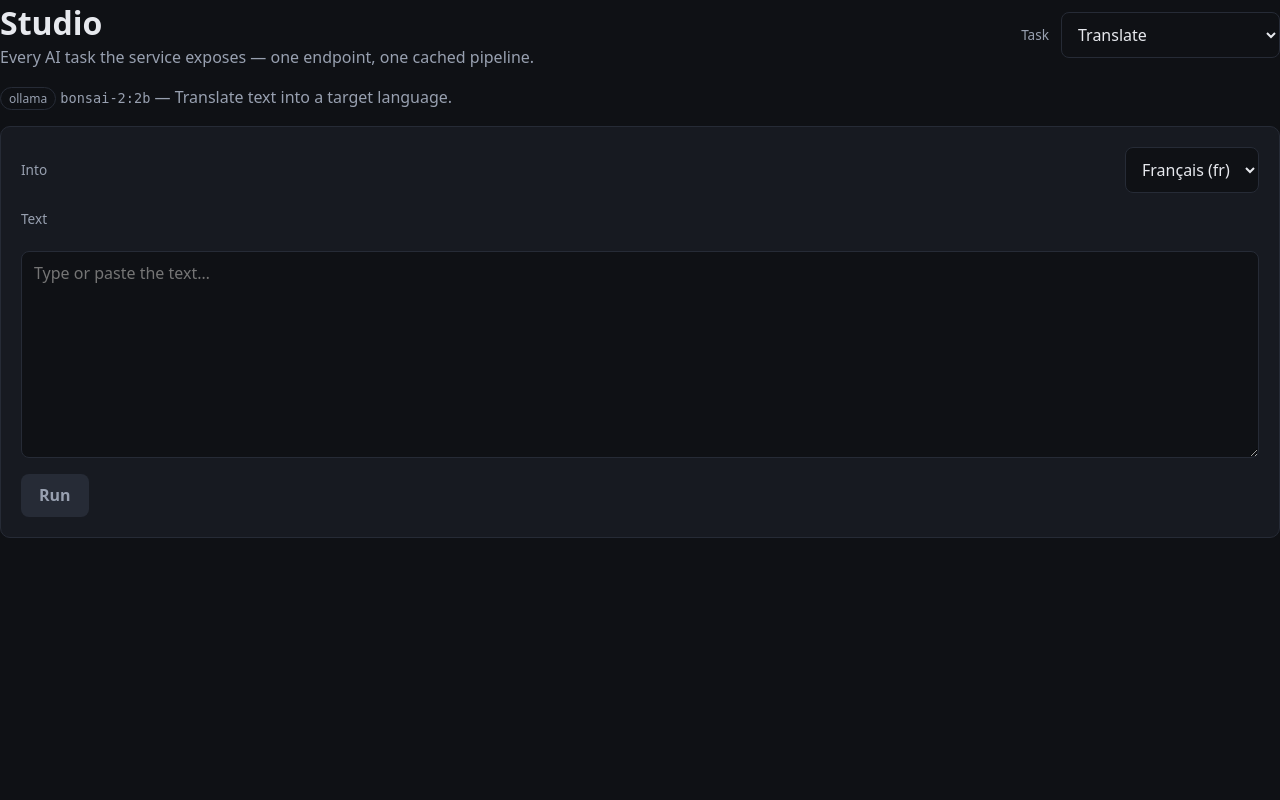
Scenario: Studio › posts the selected target language for translation
This screenshot has width=1280, height=800.
Select "Français (fr)" in the dropdown labelled "Into": [1192, 170] box [1125,147,1259,193]
In the text box labelled "Text": [640, 354] box [21,251,1259,458], type "Hello"
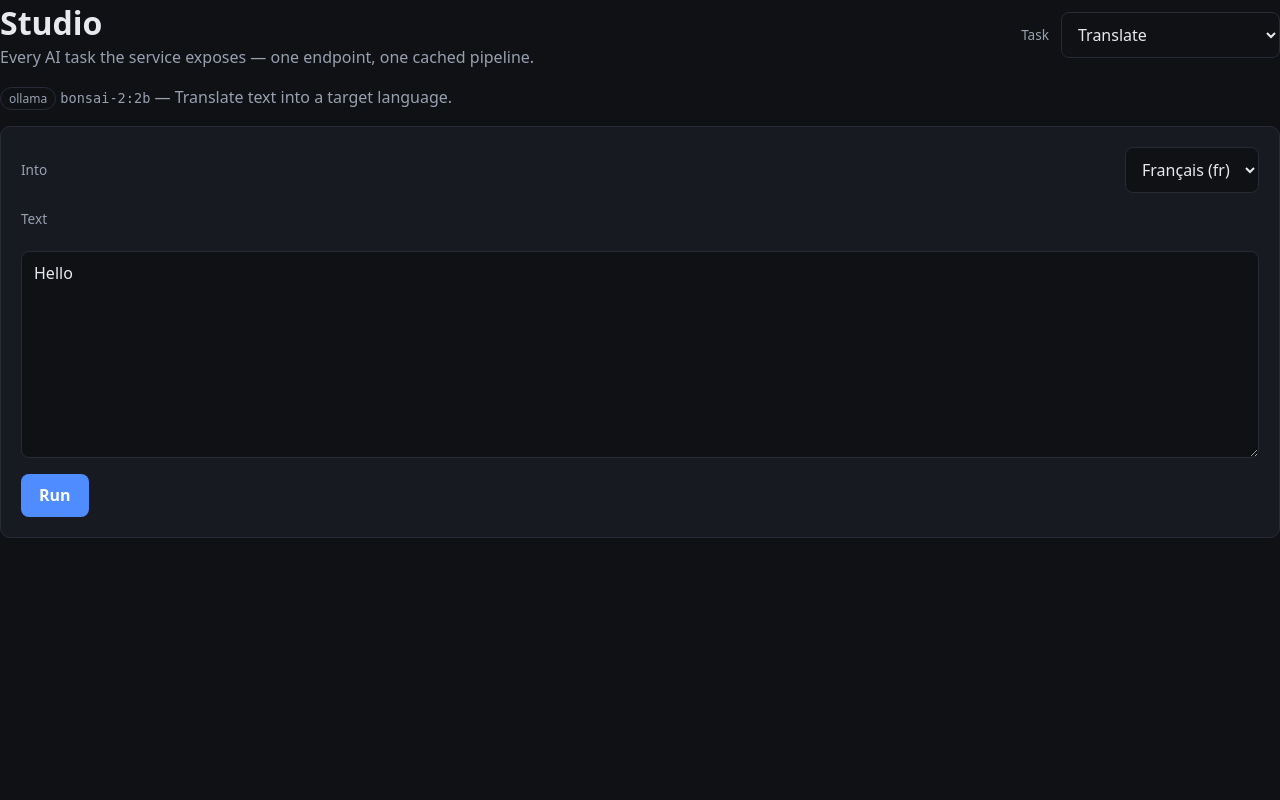
Click the button "Run": [55, 496] box [21,474,89,517]
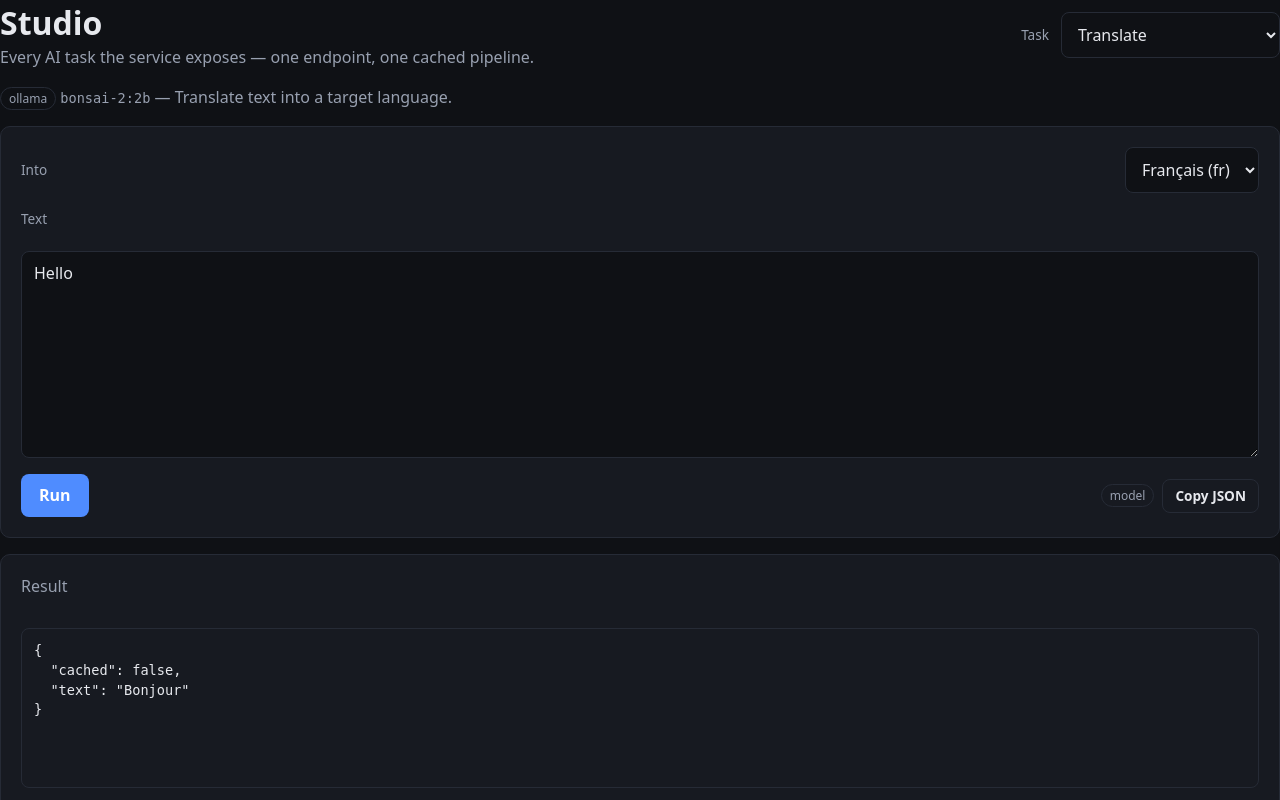
Now the text "{ \"cached\": false, \"text\": \"Bonjour\" }" is shown, box [21,628,1259,788]
